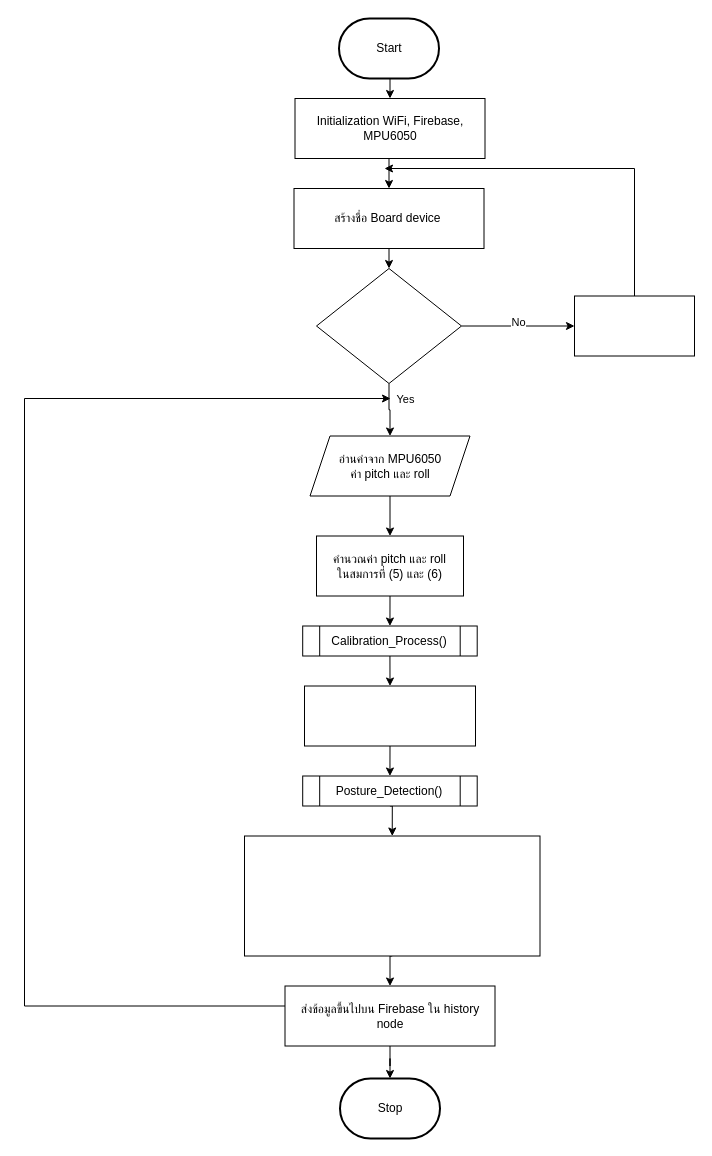
Image size: 712x1156. Some labels were removed from this diagram. The shapes that lost their labels are listed below. From the top down, each one's box as (x1, y1, x2, y2) in pixels, then its label:
(316, 268, 462, 384): มี calibration node ใน Board device ไหม ?
(574, 295, 694, 356): สร้าง calibration node ใน Firebase
(304, 685, 476, 746): คำนวณ deltaPitch, deltaRoll dP = pitch - pitch0 dR = roll - roll0
(244, 835, 540, 956): สร้างข้อมูลเป็น JSON pitch, roll, dP, dR, posture. detail
